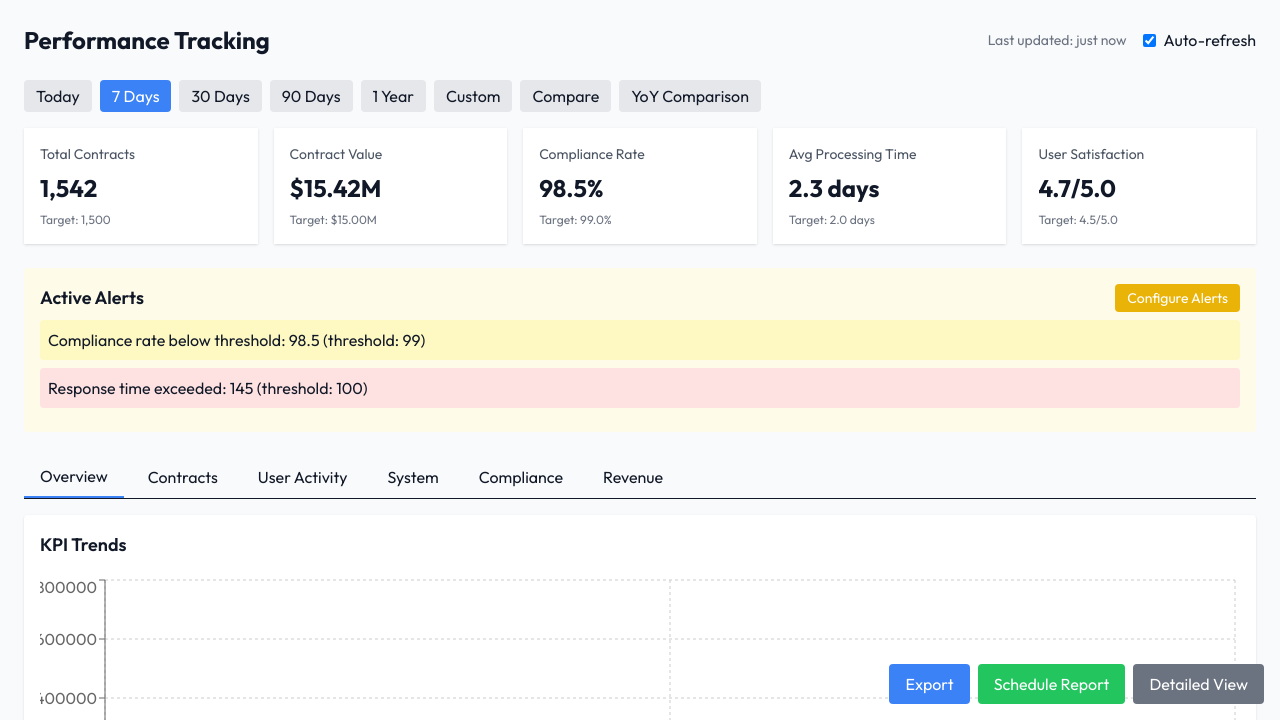
Test: PerformanceTracking › Time Range Selection › should show custom date range picker
Click the button "Custom" at {"x": 473, "y": 96}, box [434,80,512,112]
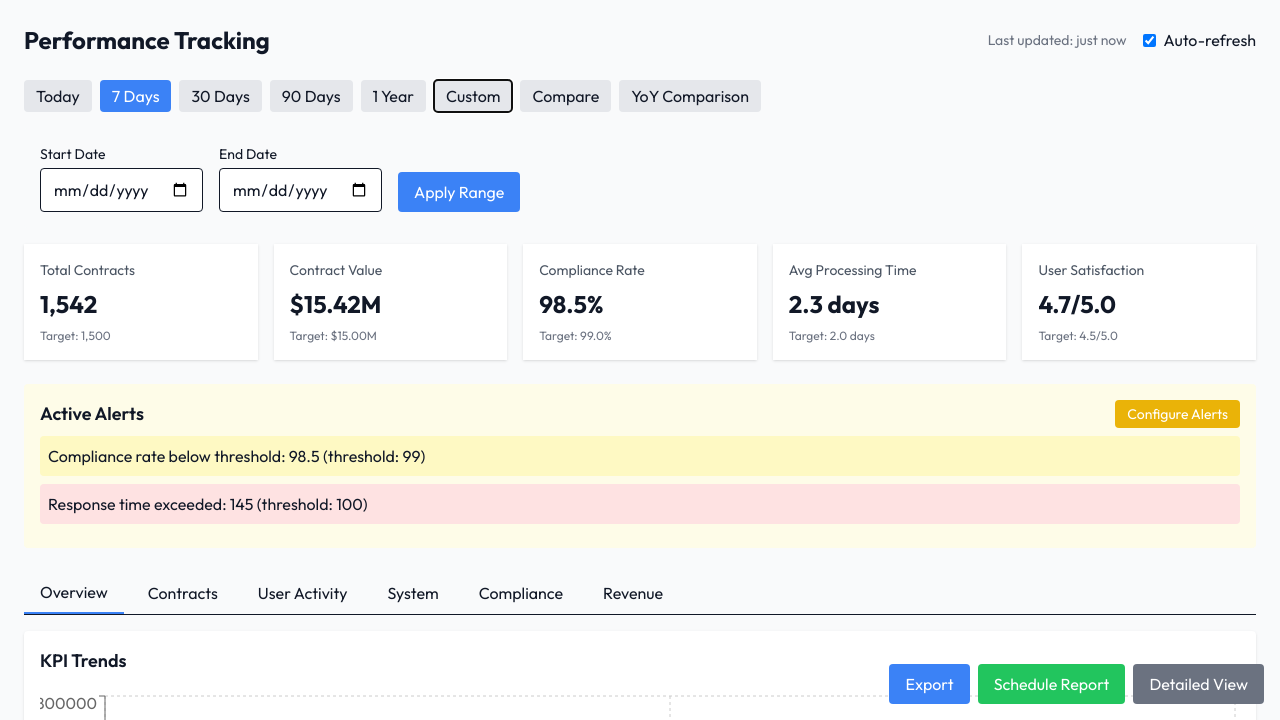
Result: the date field labelled "Start Date" is shown at [40,168,203,212]
Result: the date field labelled "End Date" is shown at [219,168,382,212]
Result: the button "Apply Range" is shown at [398,172,520,212]
